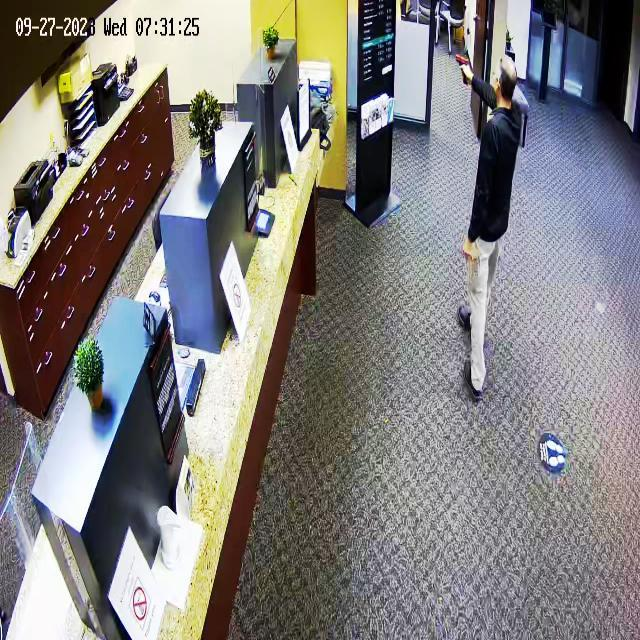Gun: (442, 41, 476, 90)
